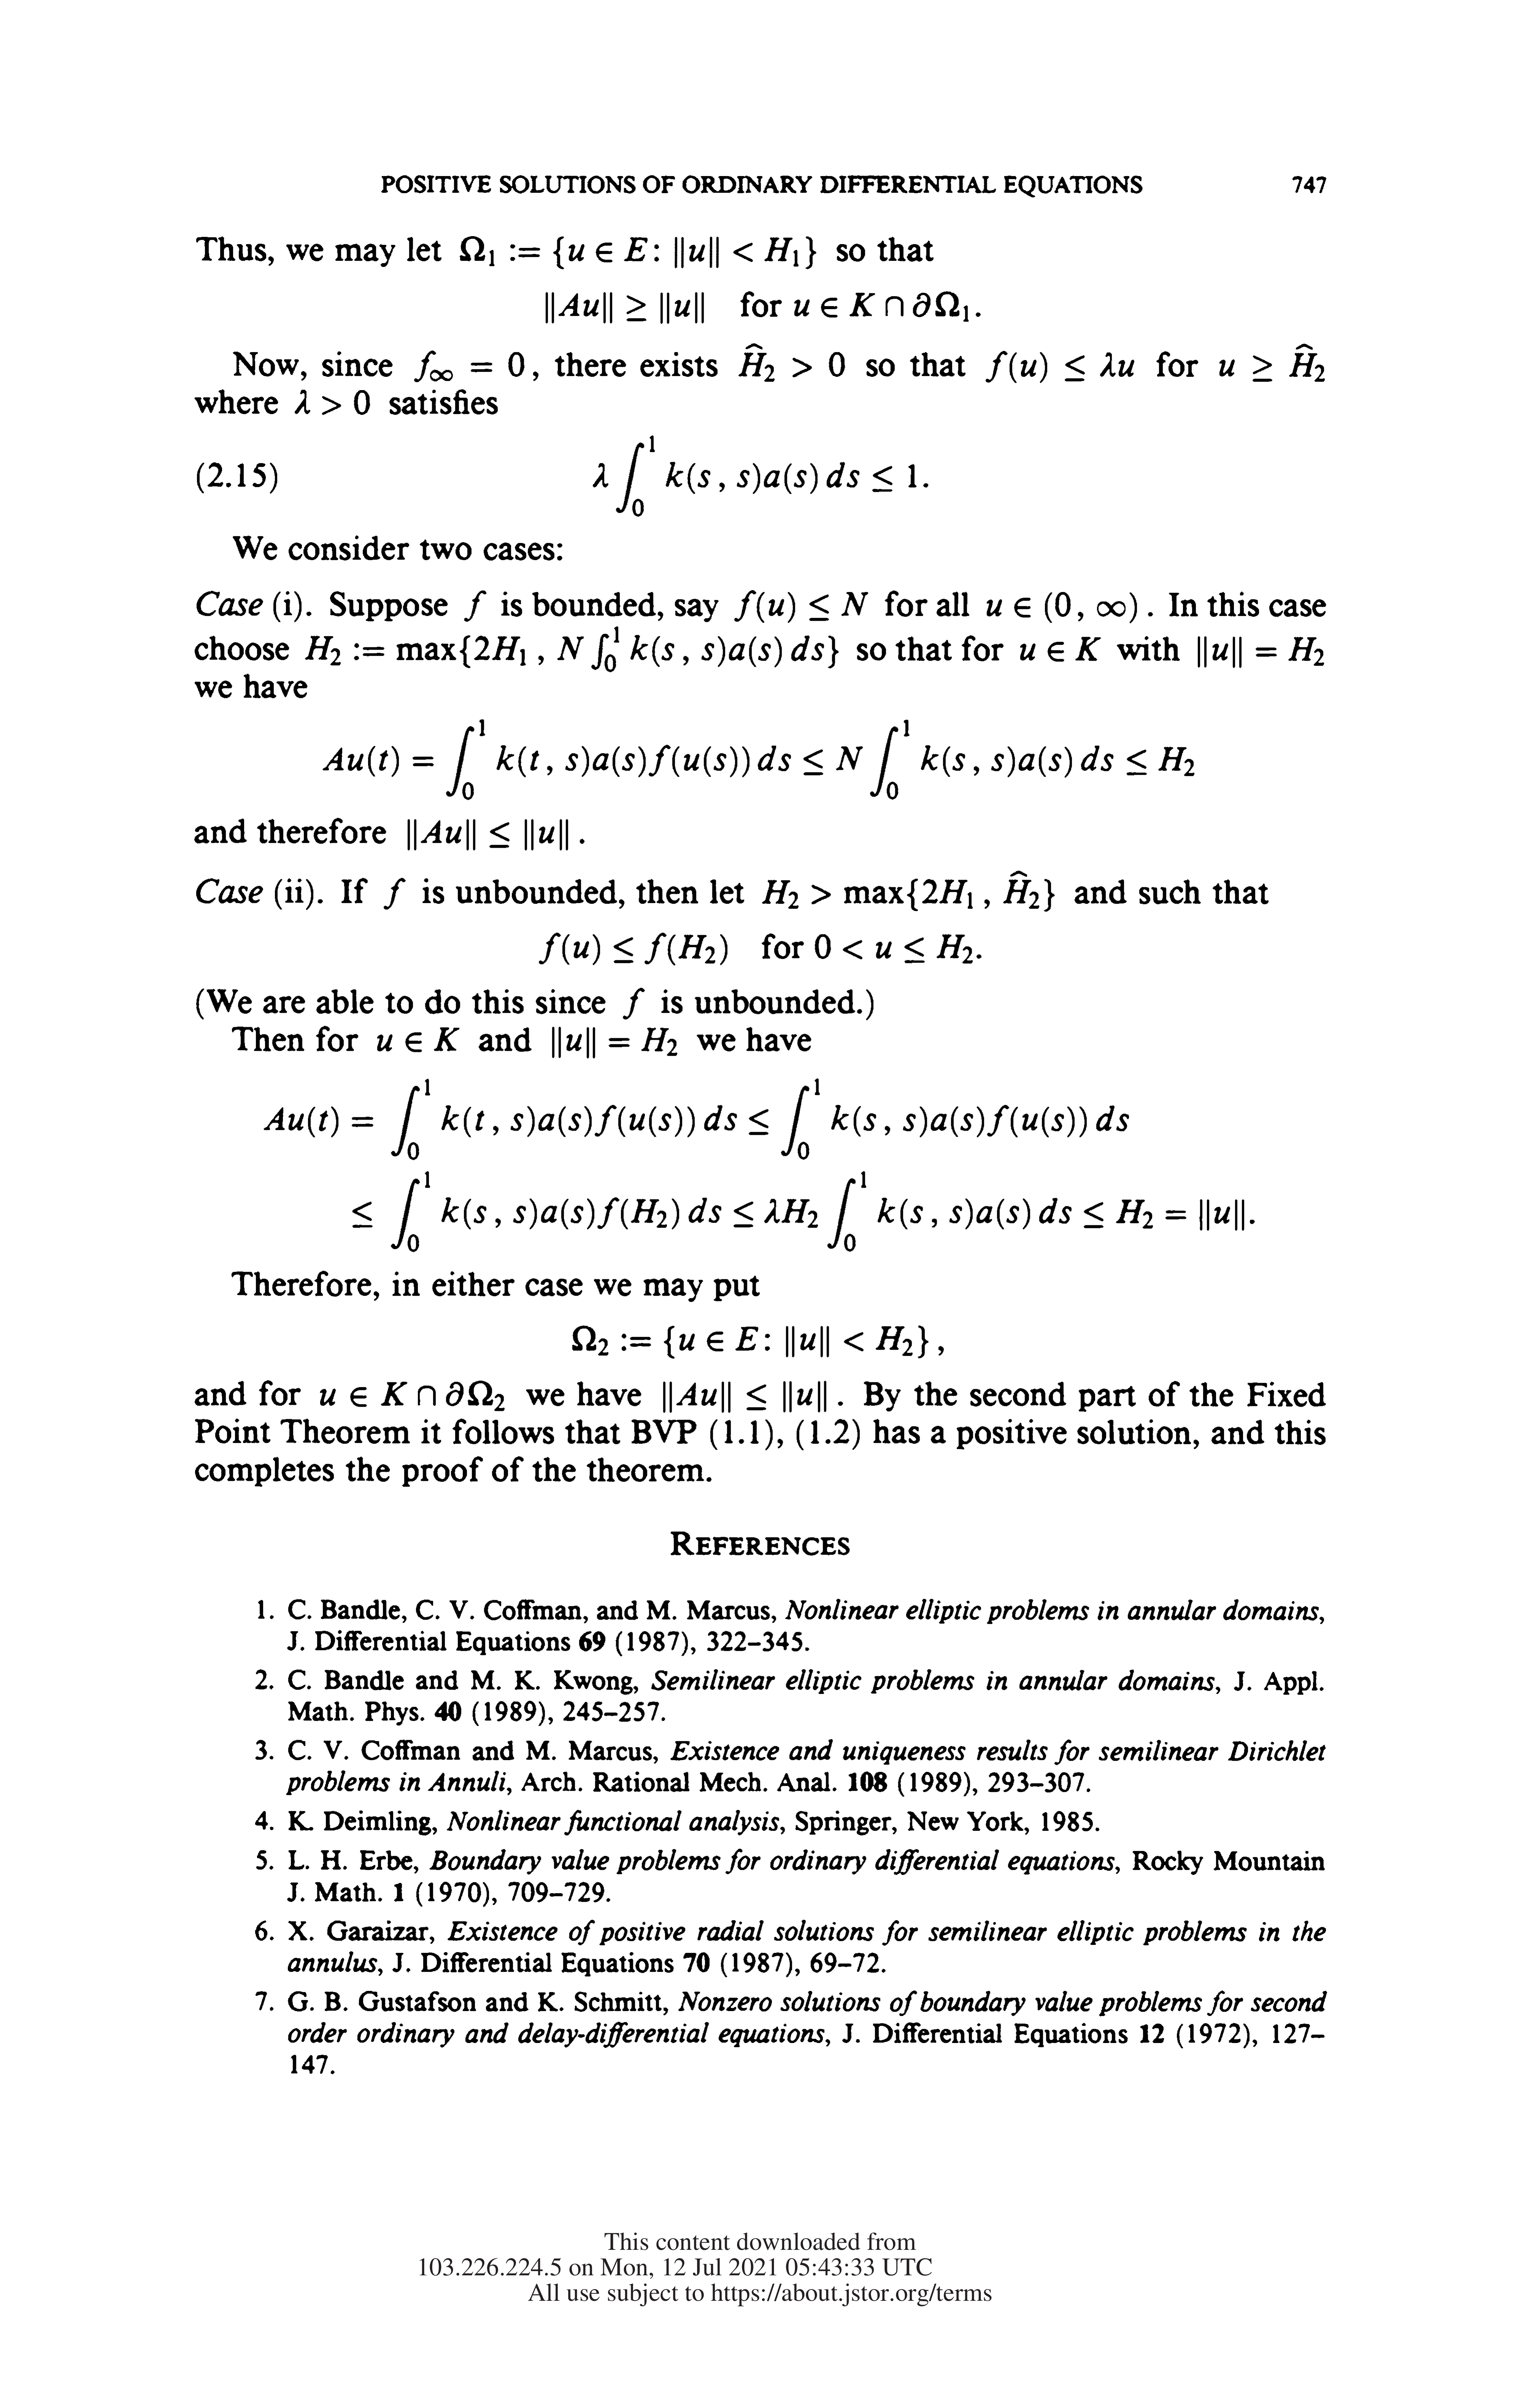maths: (352, 1171, 1237, 1251), (265, 1078, 1128, 1160), (368, 719, 1193, 799), (592, 435, 916, 517), (354, 626, 839, 671), (573, 1325, 929, 1358), (762, 871, 1055, 911), (459, 237, 817, 268), (538, 932, 727, 966), (321, 1381, 505, 1411), (662, 1381, 825, 1413), (408, 818, 568, 850), (545, 293, 697, 324), (987, 351, 1134, 382), (987, 592, 1137, 622), (815, 934, 973, 962), (794, 291, 959, 317), (734, 591, 867, 622), (738, 343, 845, 382), (1220, 343, 1325, 382), (1199, 636, 1323, 668), (552, 1027, 676, 1059), (414, 351, 524, 382), (377, 1027, 459, 1052), (1020, 636, 1100, 661), (294, 389, 370, 414), (305, 636, 340, 664), (322, 747, 363, 769), (622, 988, 645, 1018), (384, 878, 405, 910), (464, 591, 485, 620)
